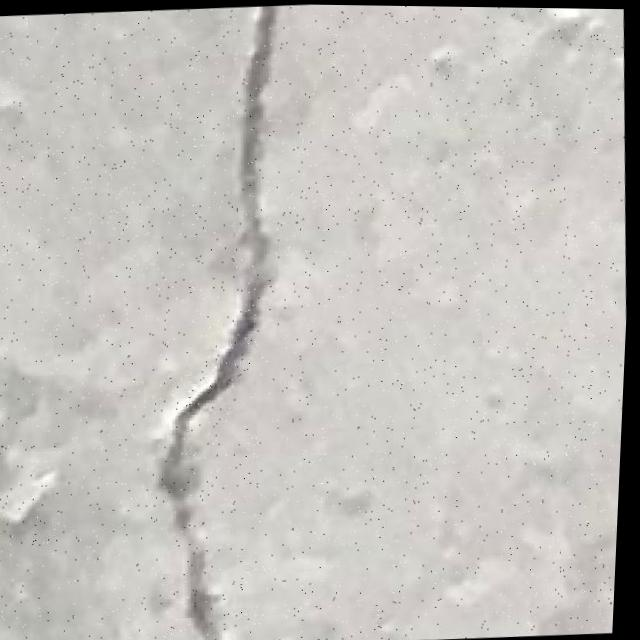Crack: (124, 2, 335, 640)
